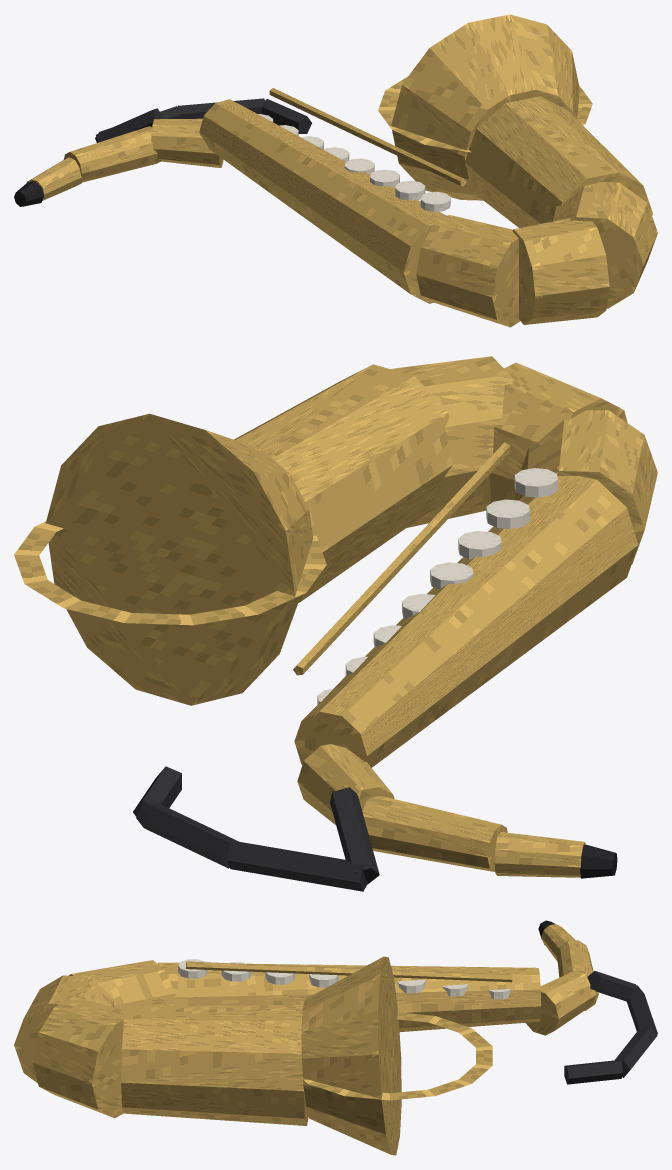
Rendered from saxophone.glb.
3 views of the same model, one above another, from view 1: azimuth 30°, elevation 25°; view 2: azimuth 150°, elevation 25°; view 3: azimuth 270°, elevation 25° (orthographic). The views are drawn at different scales.
Parts seen in each view (by area): view 1: block_U bow (×3), block_flared bell, block_body tube, block_bell tube, block_neck, block_neck bend, block_key rods 0, block_mouthpiece, block_pearl key (×2), block_neck strap 3, block_neck strap 0, block_neck strap 2 (+1 smaller); view 2: block_flared bell, block_body tube, block_bell tube, block_U bow (×3), block_neck, block_pearl key (×4), block_neck strap 1, block_neck bend, block_key rods 0, block_mouthpiece, block_neck strap 2, block_neck strap 0 (+2 smaller); view 3: block_bell tube, block_flared bell, block_U bow (×3), block_body tube, block_neck bend, block_key rods 0, block_neck strap 3, block_neck, block_neck strap 2, block_neck strap 0, block_neck strap 1, block_mouthpiece (+1 smaller).
Part boxes in pixels (box(x1,y1,x2,y2)): block_U bow (×3): box(416, 182, 657, 327); block_flared bell: box(391, 14, 579, 200); block_body tube: box(199, 99, 446, 303); block_bell tube: box(465, 96, 652, 227); block_neck: box(63, 126, 161, 182); block_neck bend: box(151, 118, 223, 167); block_key rods 0: box(269, 88, 466, 186); block_mouthpiece: box(26, 157, 82, 200); block_pearl key (×2): box(395, 180, 450, 211); block_neck strap 3: box(262, 99, 311, 133); block_neck strap 0: box(96, 108, 163, 142); block_neck strap 2: box(178, 98, 264, 118); block_flared bell: box(46, 413, 313, 705); block_body tube: box(294, 476, 637, 767); block_bell tube: box(234, 364, 452, 602); block_U bow (×3): box(390, 356, 657, 564); block_neck: box(362, 796, 507, 871); block_pearl key (×4): box(430, 468, 557, 589); block_neck strap 1: box(226, 842, 367, 891); block_neck bend: box(297, 744, 394, 824); block_key rods 0: box(293, 442, 510, 675); block_mouthpiece: box(494, 832, 585, 877); block_neck strap 2: box(136, 802, 239, 868); block_neck strap 0: box(330, 787, 379, 884); block_bell tube: box(121, 1005, 308, 1125); block_flared bell: box(301, 956, 401, 1155); block_U bow (×3): box(14, 960, 175, 1118); block_body tube: box(158, 962, 541, 1031); block_neck bend: box(525, 970, 596, 1035); block_key rods 0: box(186, 961, 512, 982); block_neck strap 3: box(564, 1060, 622, 1084); block_neck: box(557, 940, 598, 1010); block_neck strap 2: box(614, 1026, 657, 1077); block_neck strap 0: box(587, 971, 641, 1001); block_neck strap 1: box(626, 985, 657, 1034); block_mouthpiece: box(541, 924, 575, 961).
Bounding box in the file's own units: 0.5894 × 0.2151 × 0.7.
Materials: 2 (2 with a texture image).
